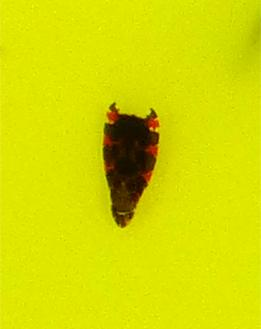Hemiptera: (100, 100, 161, 229)
